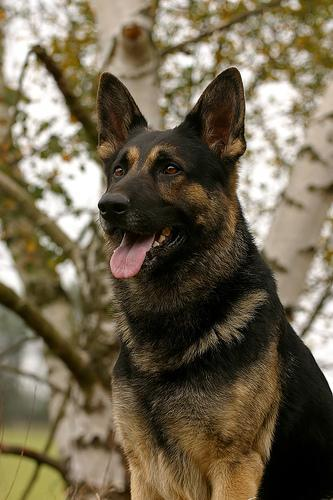German_shepherd: (93, 65, 331, 497)
